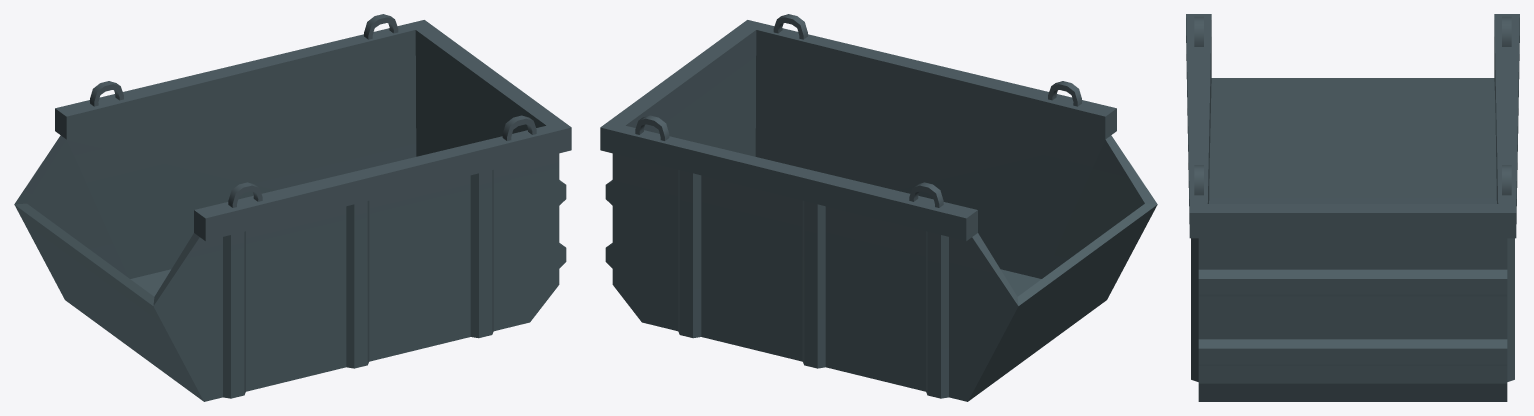
The model's file is RubbleContainer_E_1.fbx.
3 renders of one model, left to right at view 1: azimuth 30°, elevation 25°; view 2: azimuth 150°, elevation 25°; view 3: azimuth 270°, elevation 25°, orthographic. The views are drawn at different scales.
Parts seen in each view (by area): view 1: RubbleContainer_E_1; view 2: RubbleContainer_E_1; view 3: RubbleContainer_E_1.
Part boxes in pixels (<box>): RubbleContainer_E_1: <box>14,14,571,401</box>; RubbleContainer_E_1: <box>600,14,1157,401</box>; RubbleContainer_E_1: <box>1186,14,1519,401</box>.
Size of the model in its own units: 413 by 197 by 260.
